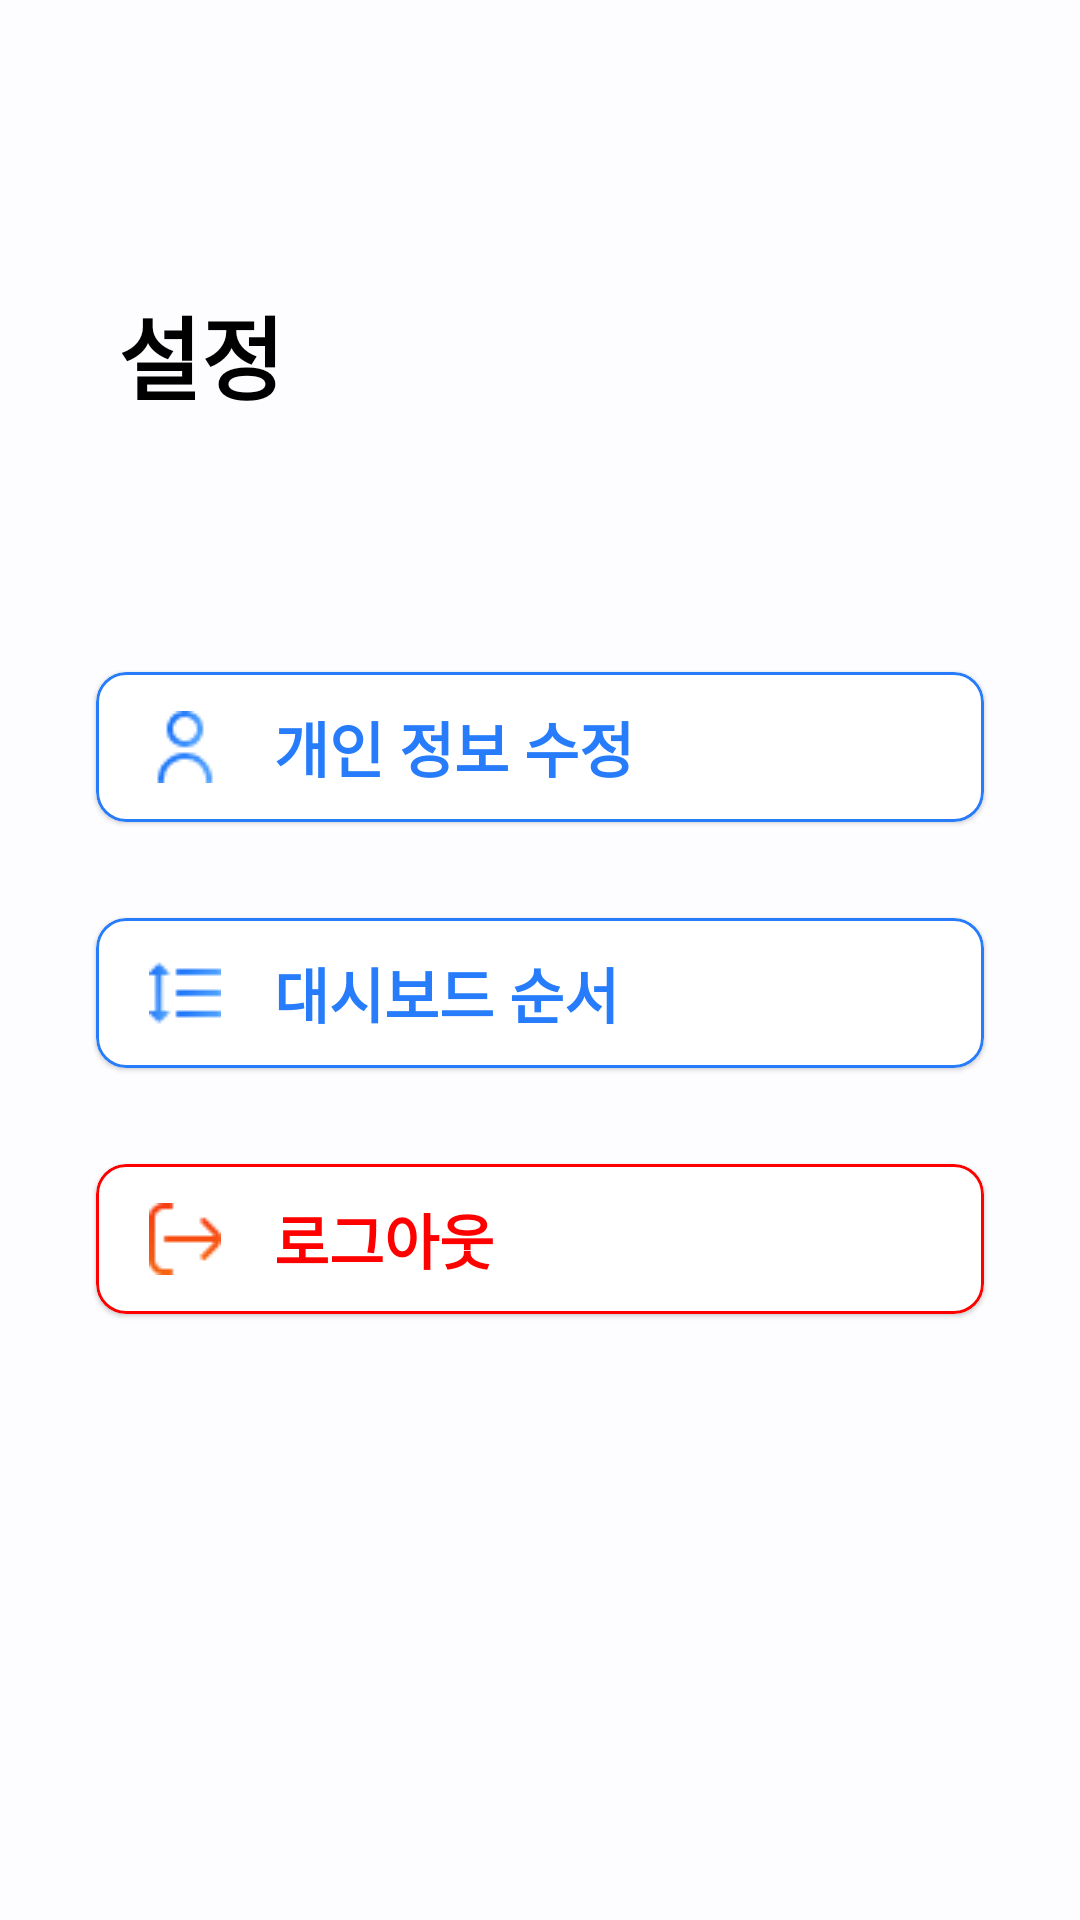

Named icons in this screenshot (1080x1920) and their centers, point (x, y):
setting order: point (185, 993)
setting signout: point (185, 1239)
setting user: point (185, 747)
